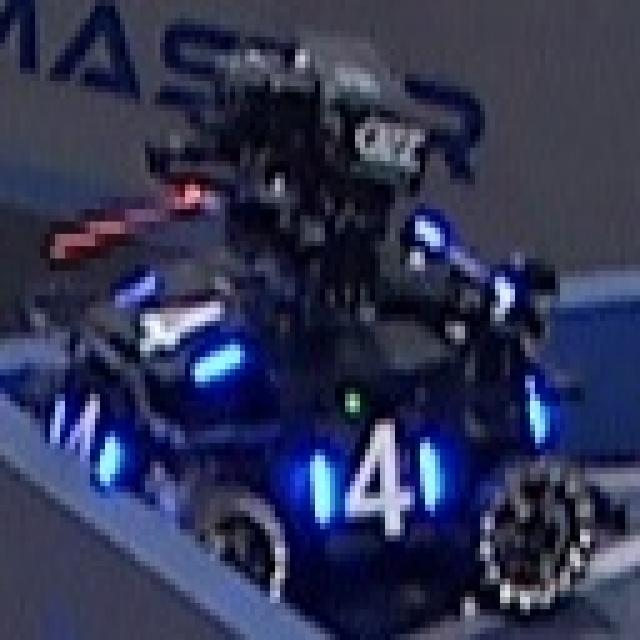B4: (310, 418, 445, 542)
